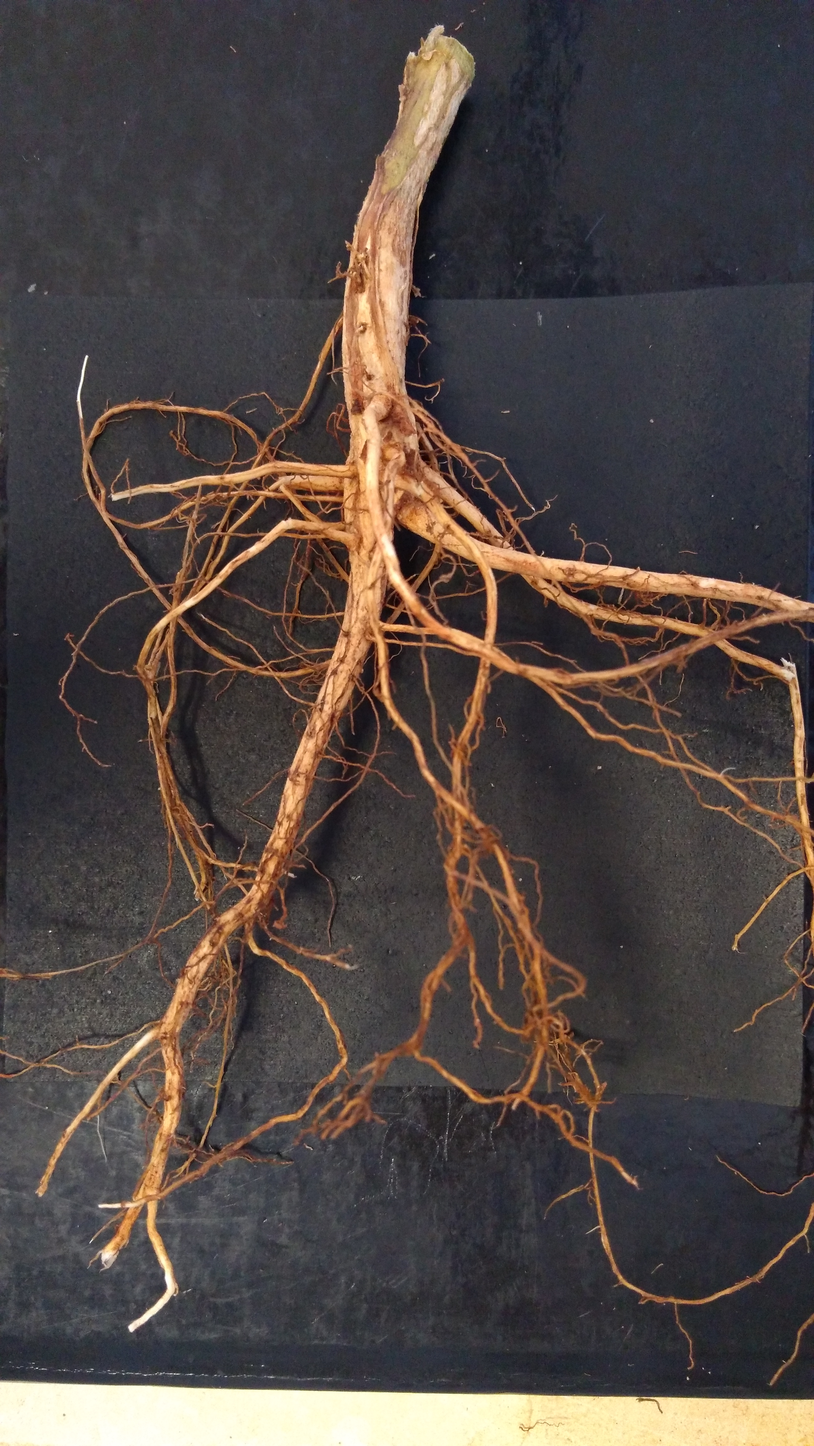nodule: (379, 471, 405, 504), (369, 394, 391, 420), (639, 589, 668, 604), (390, 404, 409, 422), (272, 919, 286, 930), (421, 51, 434, 61), (355, 252, 366, 263), (407, 315, 419, 324), (438, 575, 451, 583), (110, 1074, 119, 1084), (206, 967, 215, 976), (399, 95, 406, 101), (192, 1153, 197, 1158), (360, 668, 364, 673)
